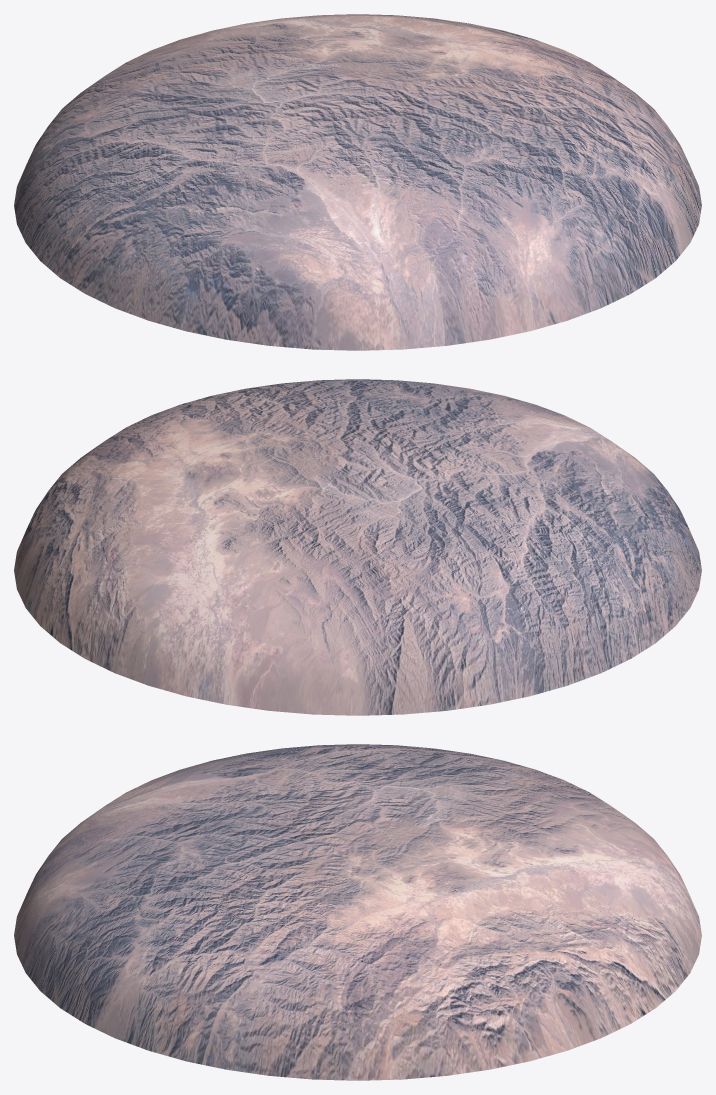
The model's file is skydome_textured.dae.
3 views of the same model, one above another, from view 1: azimuth 30°, elevation 25°; view 2: azimuth 150°, elevation 25°; view 3: azimuth 270°, elevation 25° (orthographic).
Visible parts, largest first — view 1: Component_1; view 2: Component_1; view 3: Component_1.
Boxes of the visible parts, x1=… form: Component_1: x1=14, y1=14, x2=701, y2=350; Component_1: x1=14, y1=379, x2=701, y2=715; Component_1: x1=14, y1=744, x2=701, y2=1080.
Size of the model in its own units: 1.01e+07 by 1.01e+07 by 1922845.
